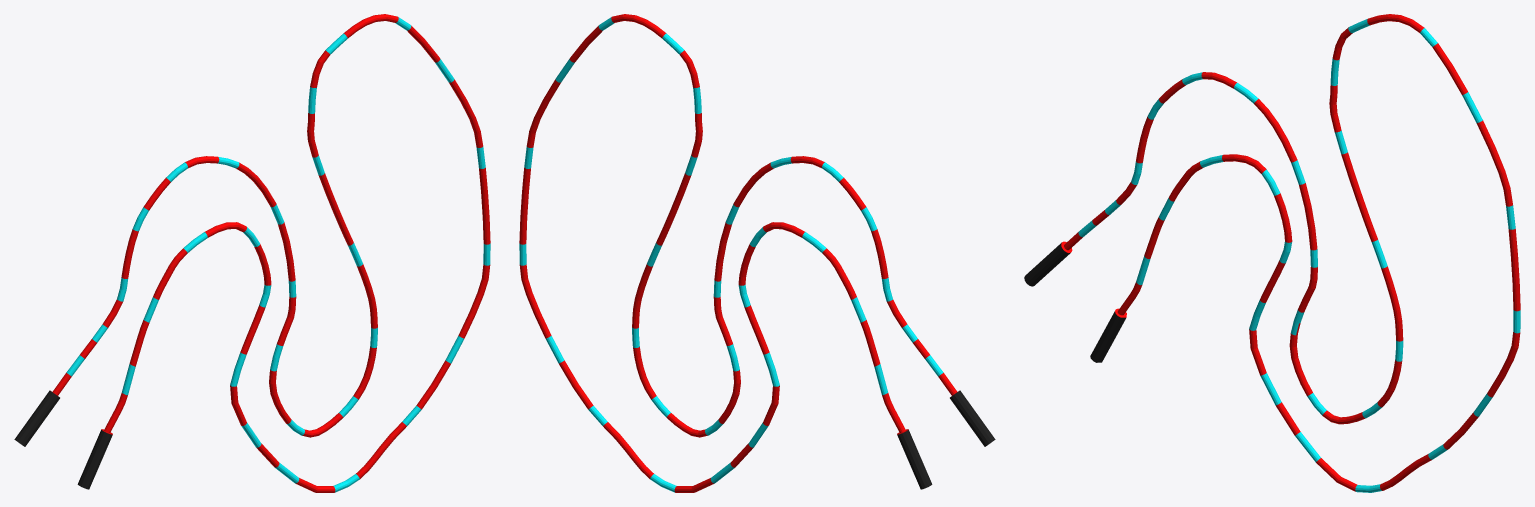
File: dori Jumprope.fbx
The picture shows the model from 3 angles, left to right: view 1: azimuth 30°, elevation 25°; view 2: azimuth 150°, elevation 25°; view 3: azimuth 330°, elevation 25°; orthographic projection. The views are drawn at different scales.
Parts seen in each view (by area): view 1: imagetostl_mesh0, imagetostl_mesh1, imagetostl_mesh2; view 2: imagetostl_mesh0, imagetostl_mesh1, imagetostl_mesh2; view 3: imagetostl_mesh0, imagetostl_mesh1, imagetostl_mesh2.
Boxes of the visible parts, x1,y1,x2,y2 form: imagetostl_mesh0: [52, 14, 490, 492]; imagetostl_mesh1: [66, 17, 490, 492]; imagetostl_mesh2: [14, 390, 112, 489]; imagetostl_mesh0: [519, 14, 957, 492]; imagetostl_mesh1: [519, 17, 943, 492]; imagetostl_mesh2: [897, 390, 995, 489]; imagetostl_mesh0: [1061, 14, 1520, 491]; imagetostl_mesh1: [1078, 19, 1520, 492]; imagetostl_mesh2: [1024, 242, 1125, 362].
Size of the model in its own units: 6.83e+07 by 6.42e+07 by 1657063.
